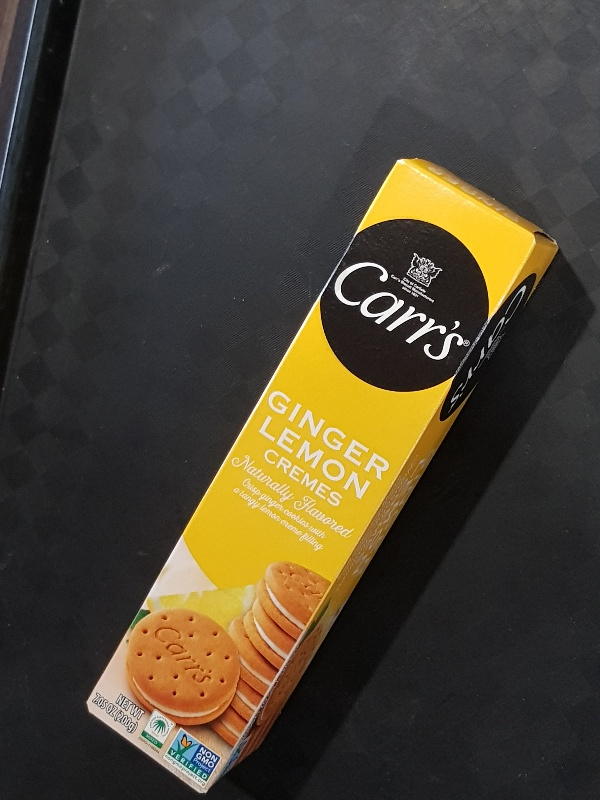Carr's Ginger Lemon Cremes: (86, 157, 560, 795)
